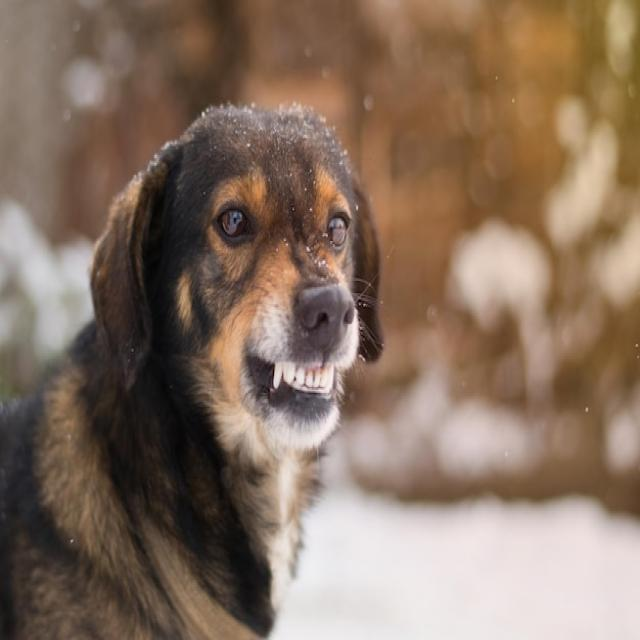angry: (76, 19, 434, 482)
